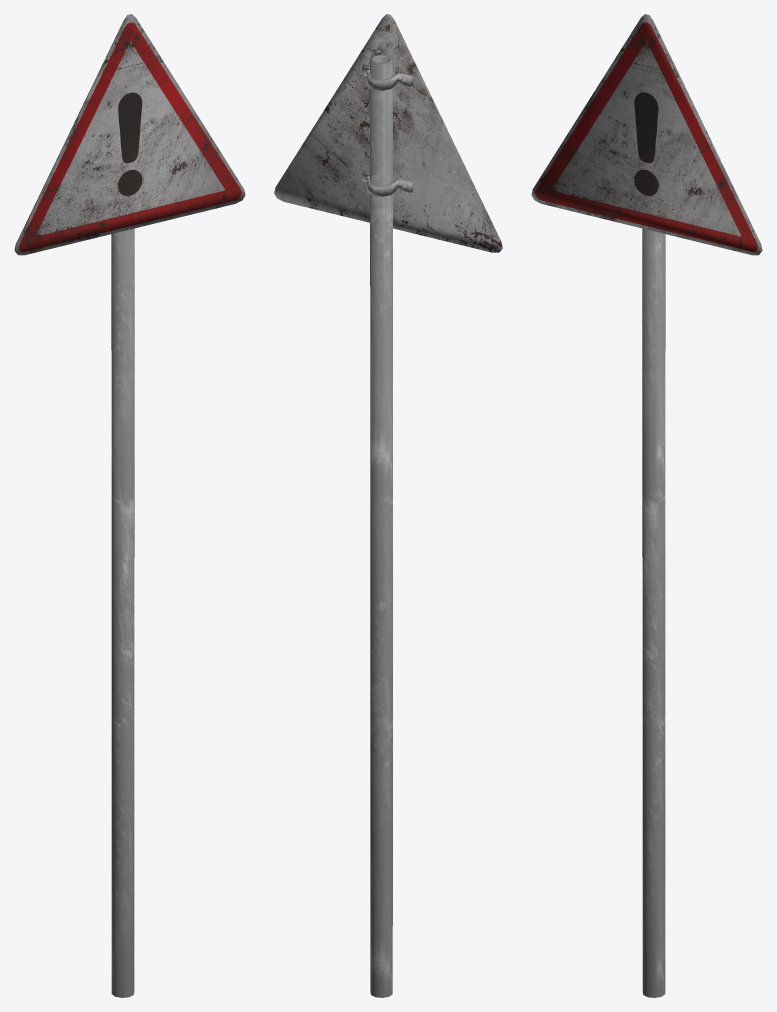
The model's file is street_warning.fbx.
3 views of the same model, side by side, from view 1: azimuth 30°, elevation 25°; view 2: azimuth 150°, elevation 25°; view 3: azimuth 330°, elevation 25° (orthographic).
Parts seen in each view (by area): view 1: street_warning; view 2: street_warning; view 3: street_warning.
Part boxes in pixels (x1,y1,x2,y2): street_warning: (14, 14, 245, 997); street_warning: (274, 14, 502, 997); street_warning: (531, 14, 762, 997).
Bounding box in the file's own units: 1.49 × 6.07 × 0.1666.
Materials: 4 (4 with a texture image).
